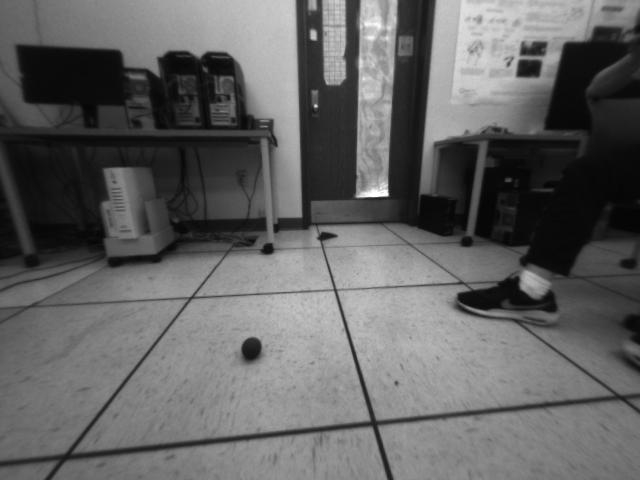dogtoy: (232, 329, 268, 371)
